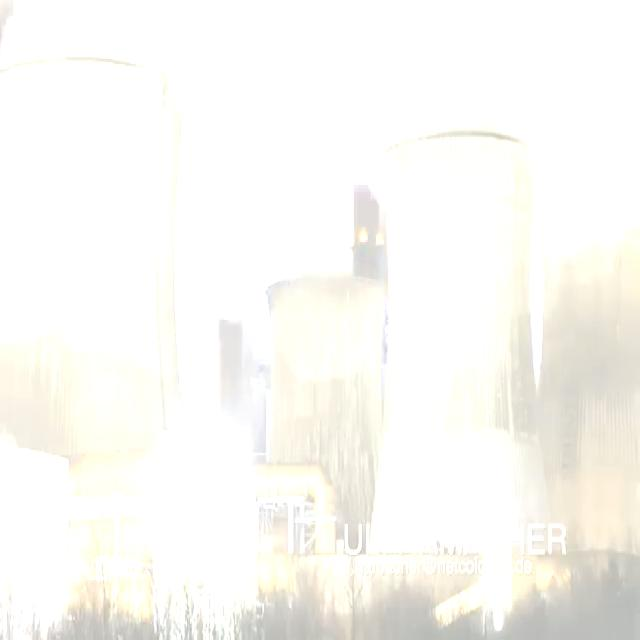smoke: (8, 0, 640, 551)
